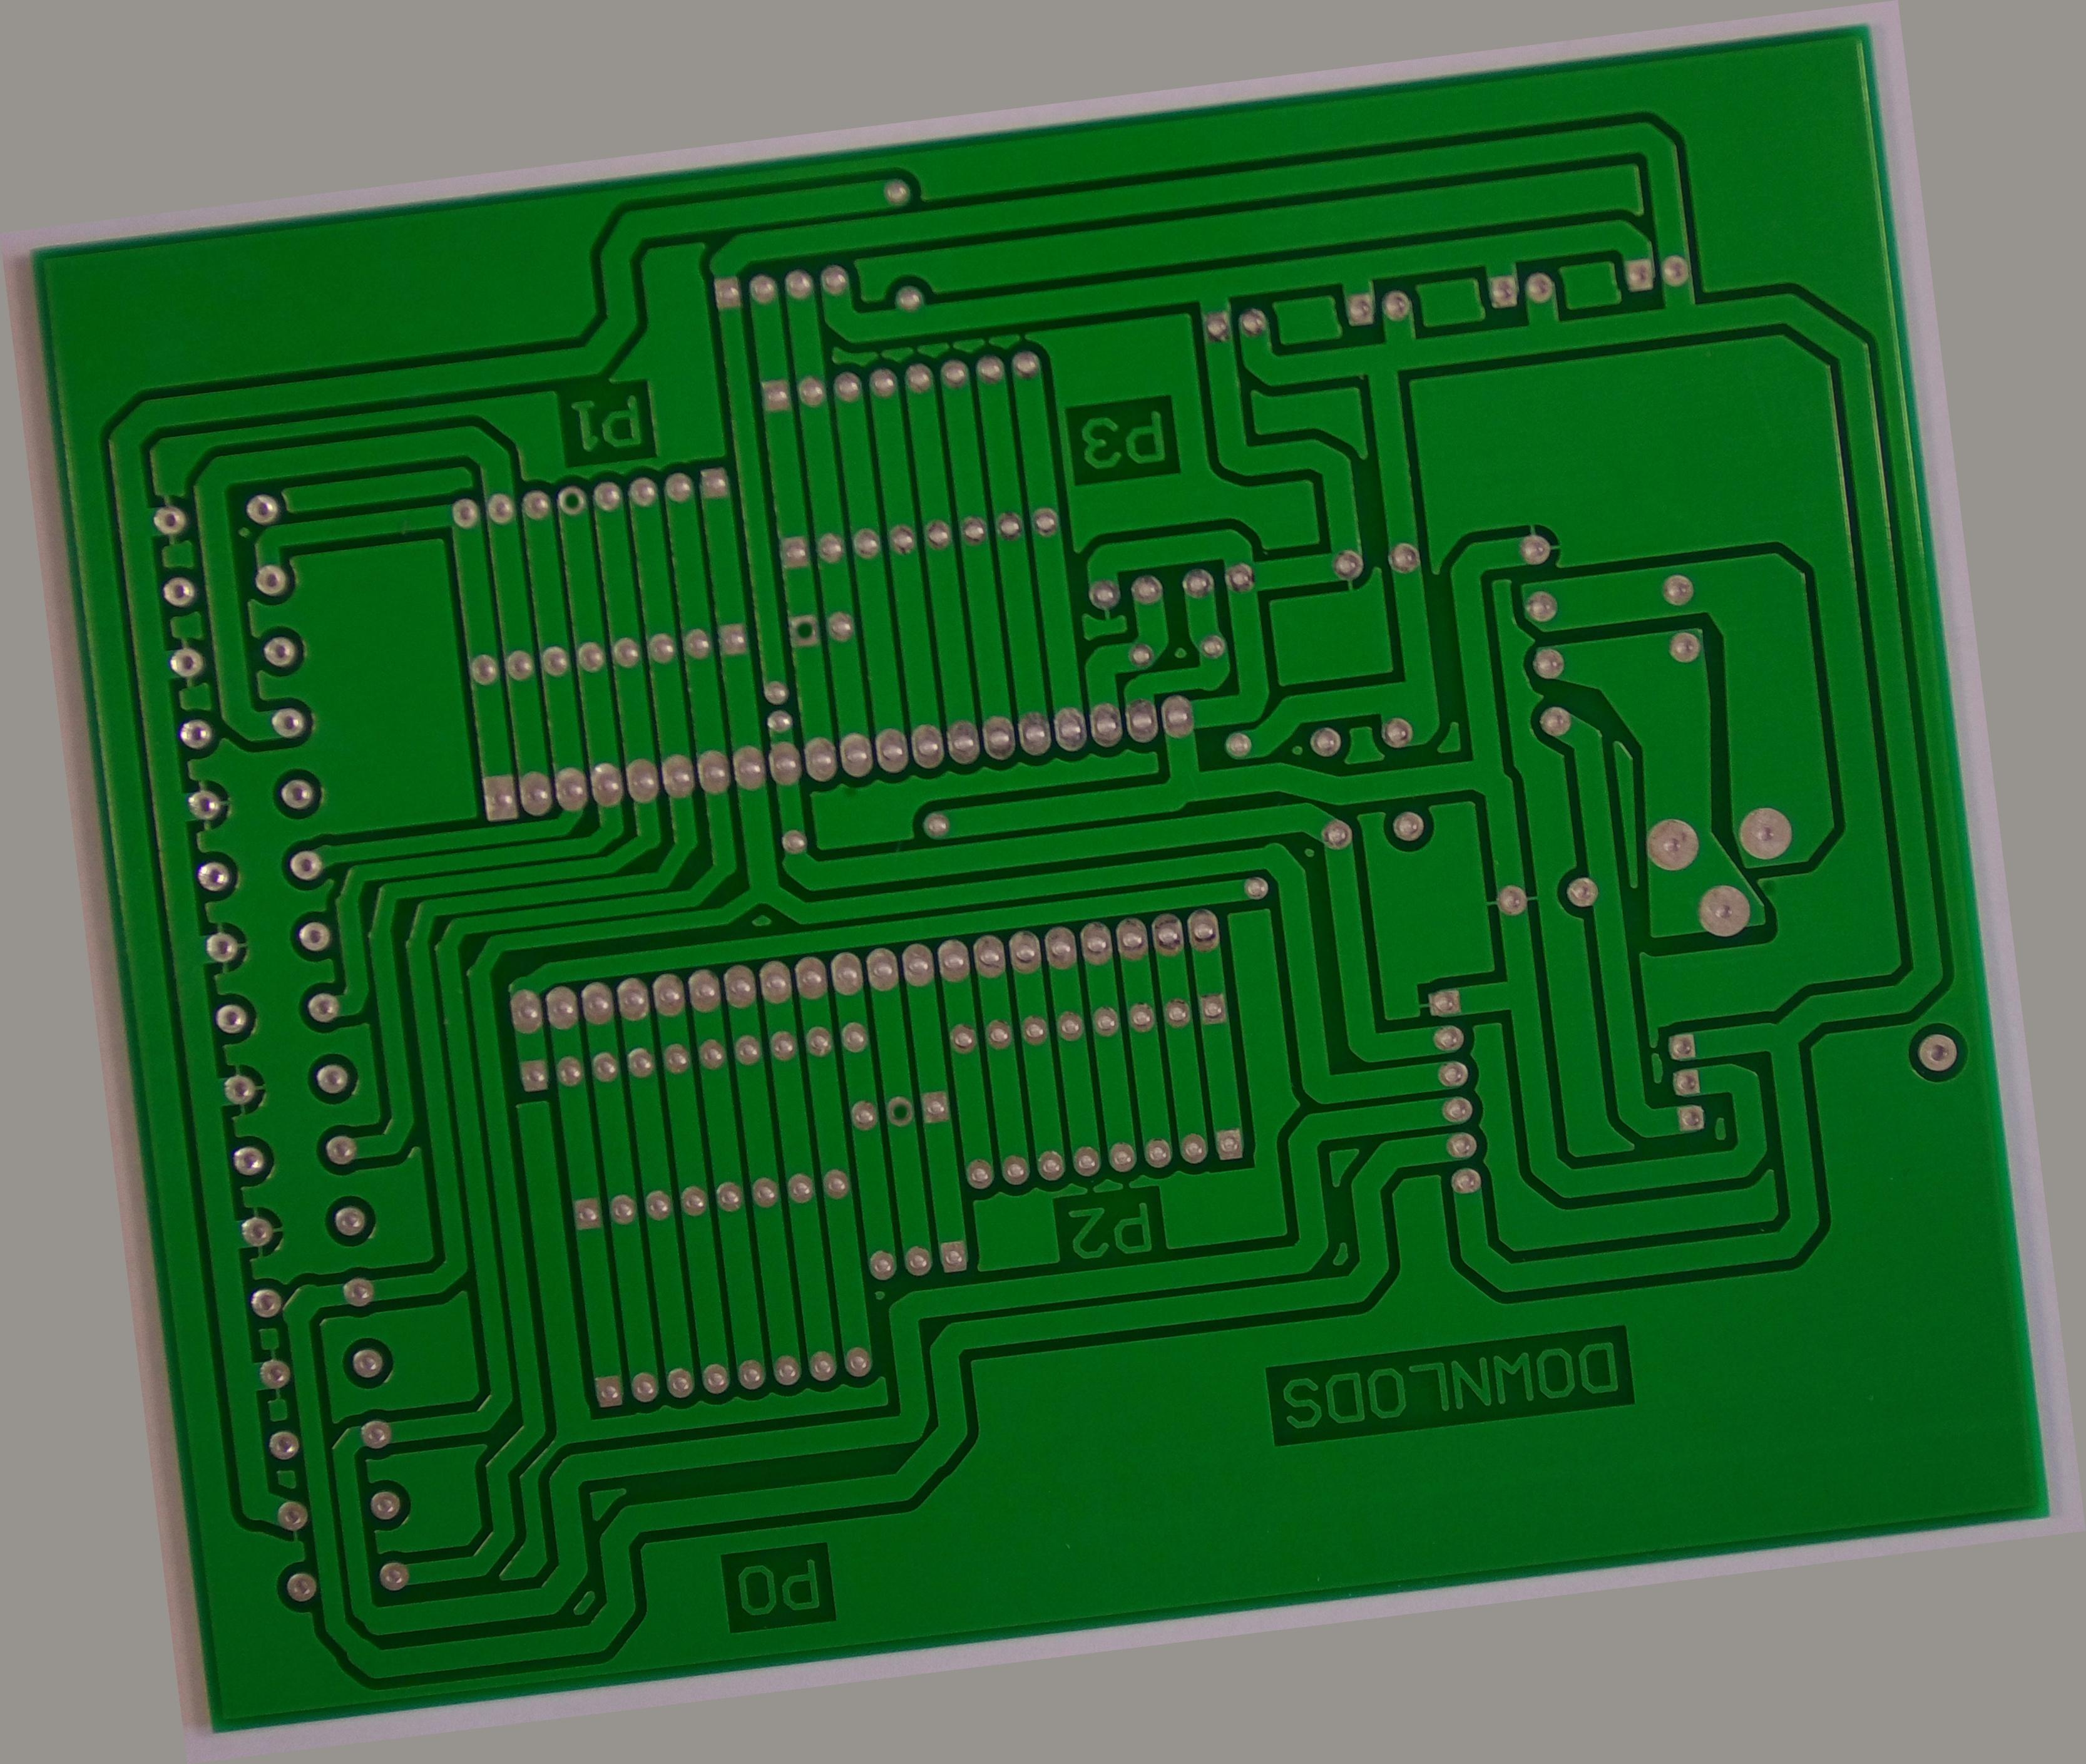missing_hole: (840, 1099, 879, 1144), (565, 359, 604, 404), (803, 544, 838, 583)
